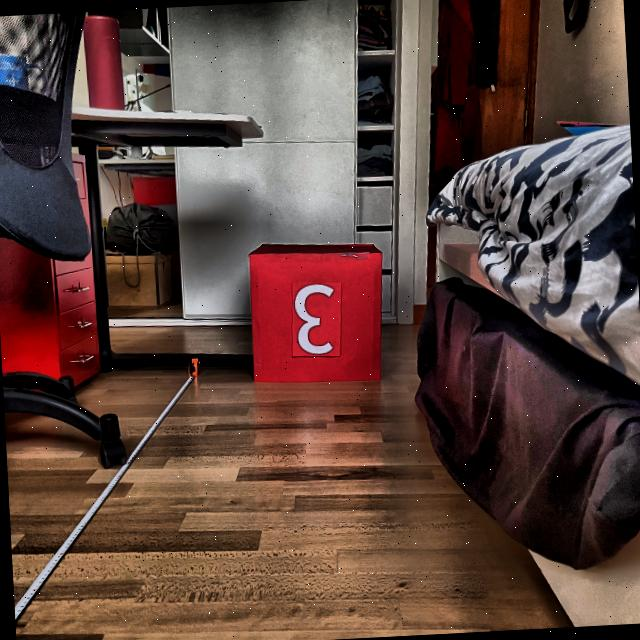red box: (248, 237, 389, 389)
three: (294, 282, 340, 357)
